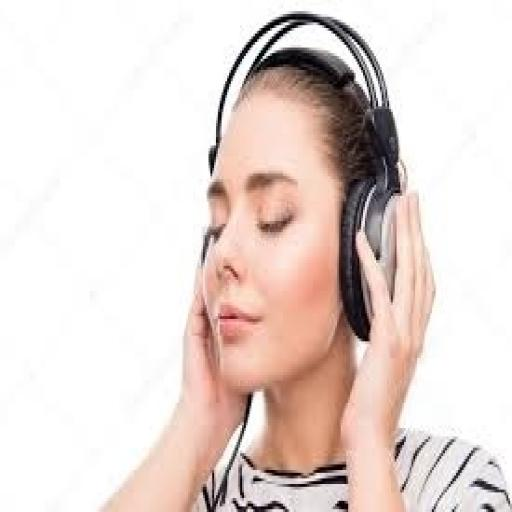listening_to_music: (88, 11, 510, 509)
